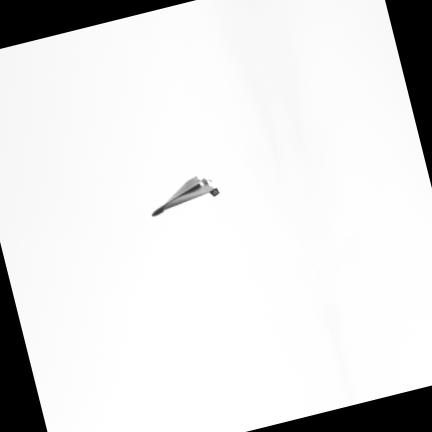Shahed: (152, 177, 218, 215)
